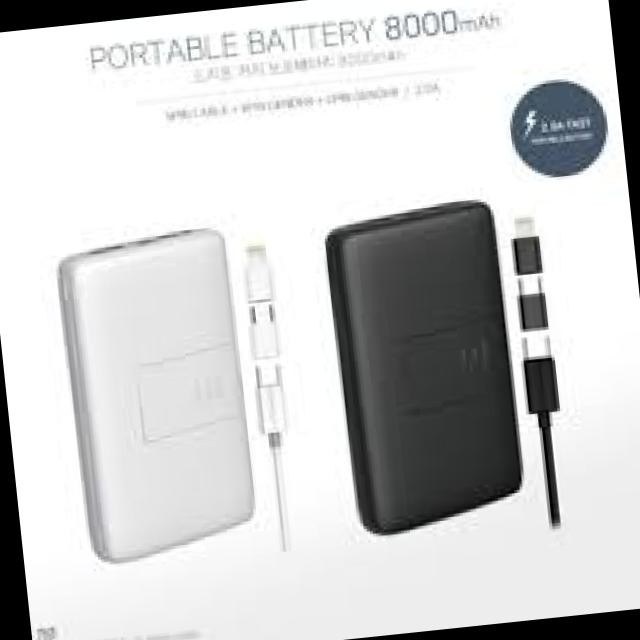portable-charger: (316, 191, 538, 545), (50, 223, 269, 566)
